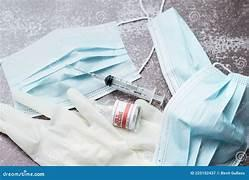Glove: (0, 90, 152, 164), (112, 99, 161, 160)
Mask: (1, 22, 139, 106), (155, 66, 247, 164), (148, 8, 210, 94), (224, 73, 248, 134), (188, 137, 200, 164)
Syringe: (77, 69, 164, 105)
